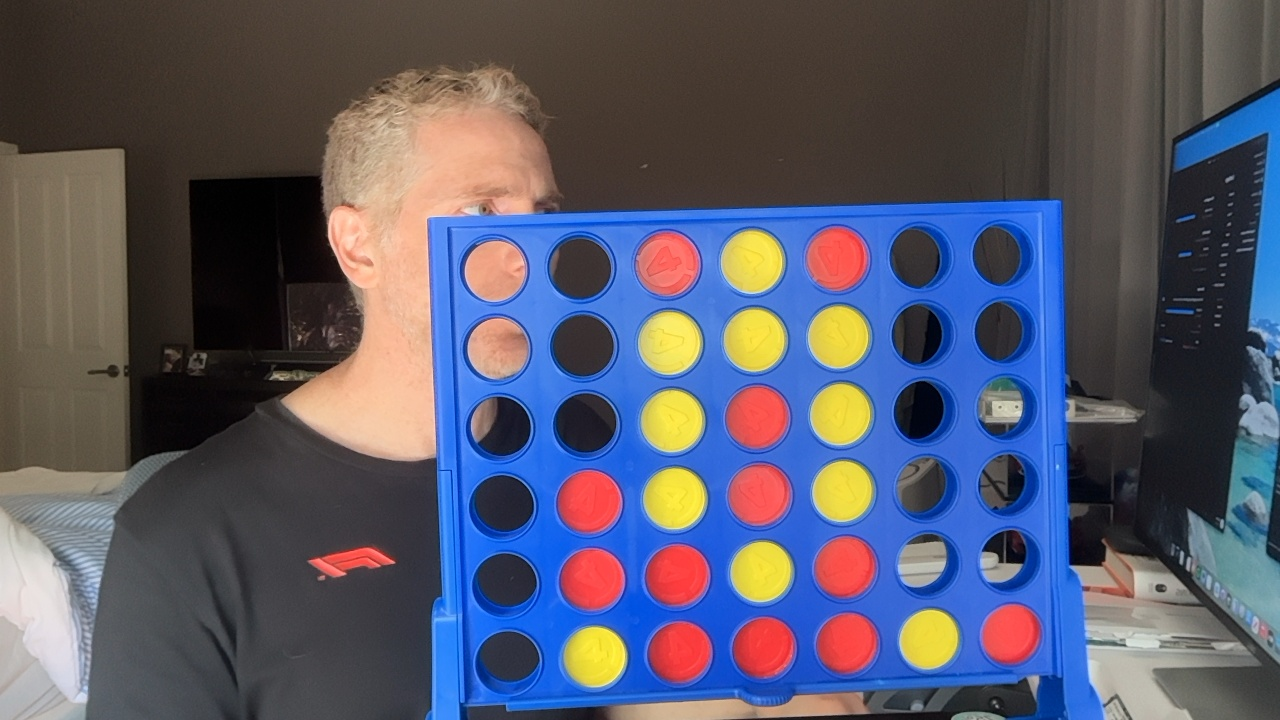red piece: (557, 470, 621, 534), (636, 231, 699, 296), (645, 544, 709, 607), (560, 548, 624, 611), (726, 385, 789, 449), (648, 621, 711, 684), (728, 463, 791, 526), (806, 227, 868, 291), (732, 617, 795, 679), (814, 536, 875, 598), (817, 613, 878, 674), (981, 604, 1041, 665)
yellow piece: (720, 229, 784, 294), (637, 311, 702, 375), (640, 389, 704, 453), (562, 626, 627, 689), (723, 307, 786, 372), (643, 467, 707, 530), (730, 541, 793, 603), (812, 460, 874, 523), (808, 305, 869, 369), (810, 382, 871, 446), (899, 609, 959, 670)
